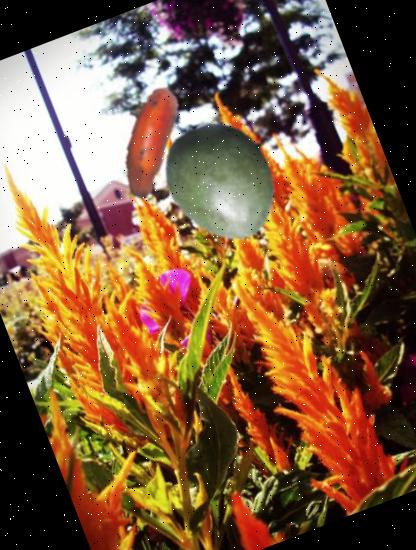Banana: (70, 65, 219, 215)
Mango: (143, 99, 307, 263)
